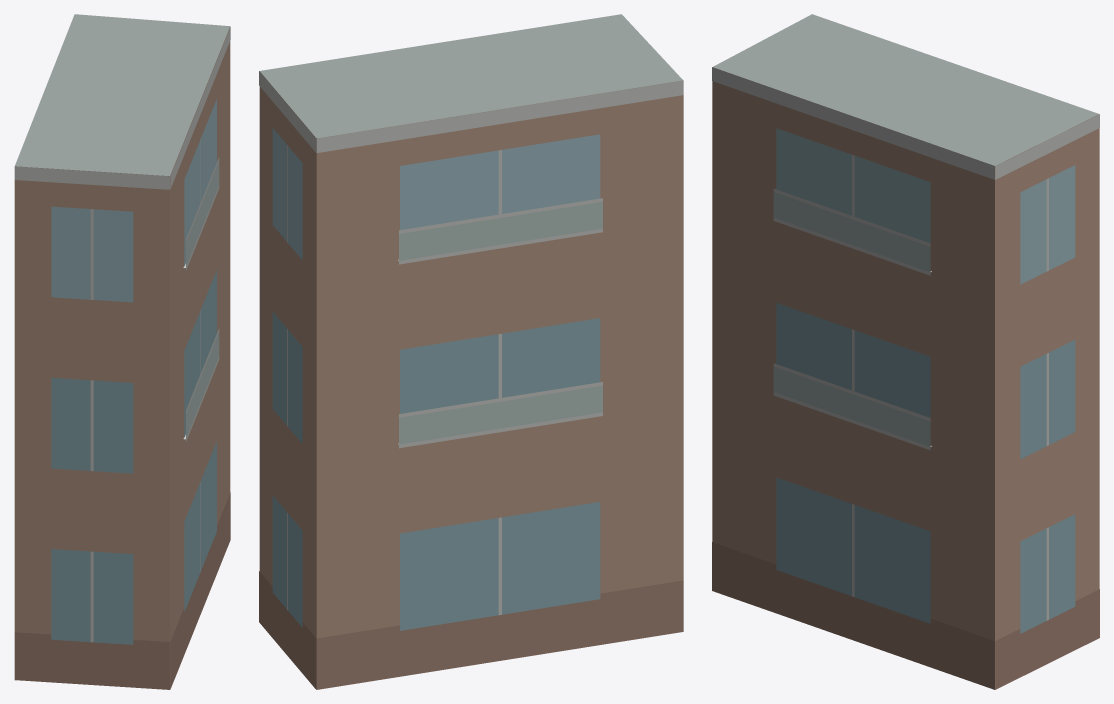
File: survey-upis-32476188.glb
The picture shows the model from 3 angles, left to right: view 1: azimuth 30°, elevation 25°; view 2: azimuth 150°, elevation 25°; view 3: azimuth 270°, elevation 25°; orthographic projection. The views are drawn at different scales.
Visible parts, largest first — view 1: survey-upis-32476188.tmp; view 2: survey-upis-32476188.tmp; view 3: survey-upis-32476188.tmp.
Part boxes in pixels (x1,y1,x2,y2): survey-upis-32476188.tmp: (14,14,230,689); survey-upis-32476188.tmp: (259,14,683,689); survey-upis-32476188.tmp: (712,14,1099,689).
Size of the model in its own units: 5.7 by 9.15 by 6.14.
